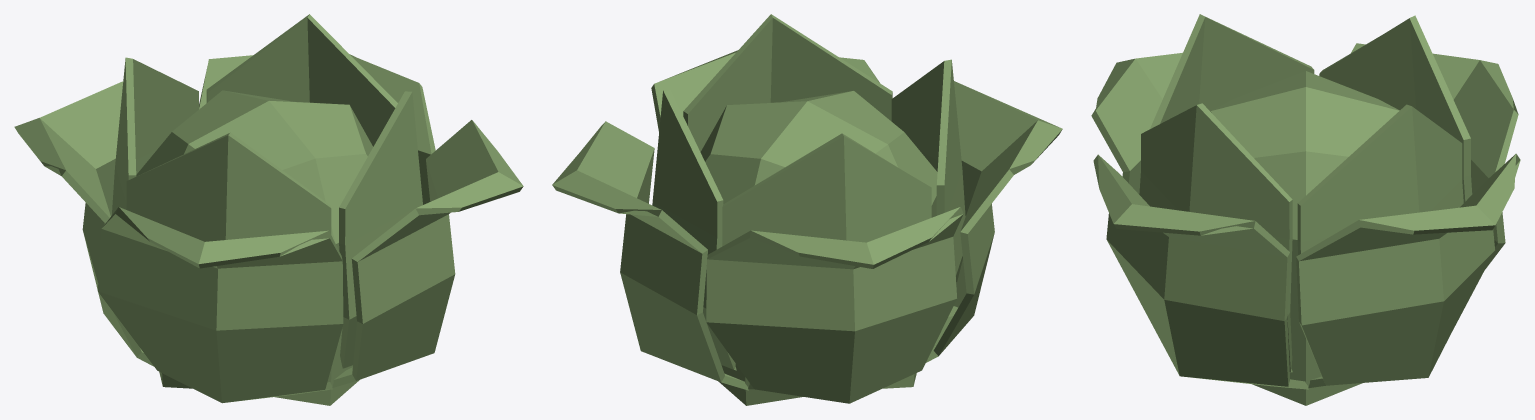
Rendered from Lettuce_Whole.glb.
3 views of the same model, side by side, from view 1: azimuth 30°, elevation 25°; view 2: azimuth 150°, elevation 25°; view 3: azimuth 270°, elevation 25° (orthographic). The views are drawn at different scales.
Parts seen in each view (by area): view 1: Lettuce_Whole; view 2: Lettuce_Whole; view 3: Lettuce_Whole.
Part boxes in pixels (x1=…): Lettuce_Whole: x1=14, y1=14, x2=523, y2=405; Lettuce_Whole: x1=552, y1=14, x2=1062, y2=405; Lettuce_Whole: x1=1091, y1=14, x2=1520, y2=405.
Bounding box in the file's own units: 1.66 × 1.37 × 1.66.
